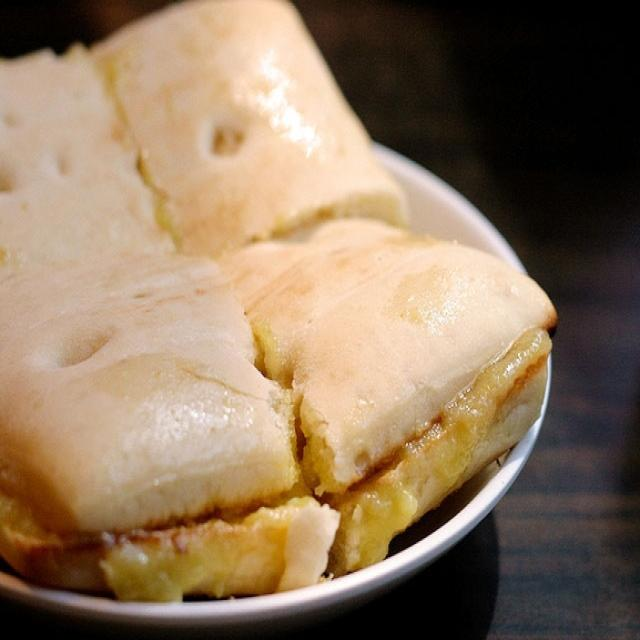面包点心: (15, 31, 538, 602)
